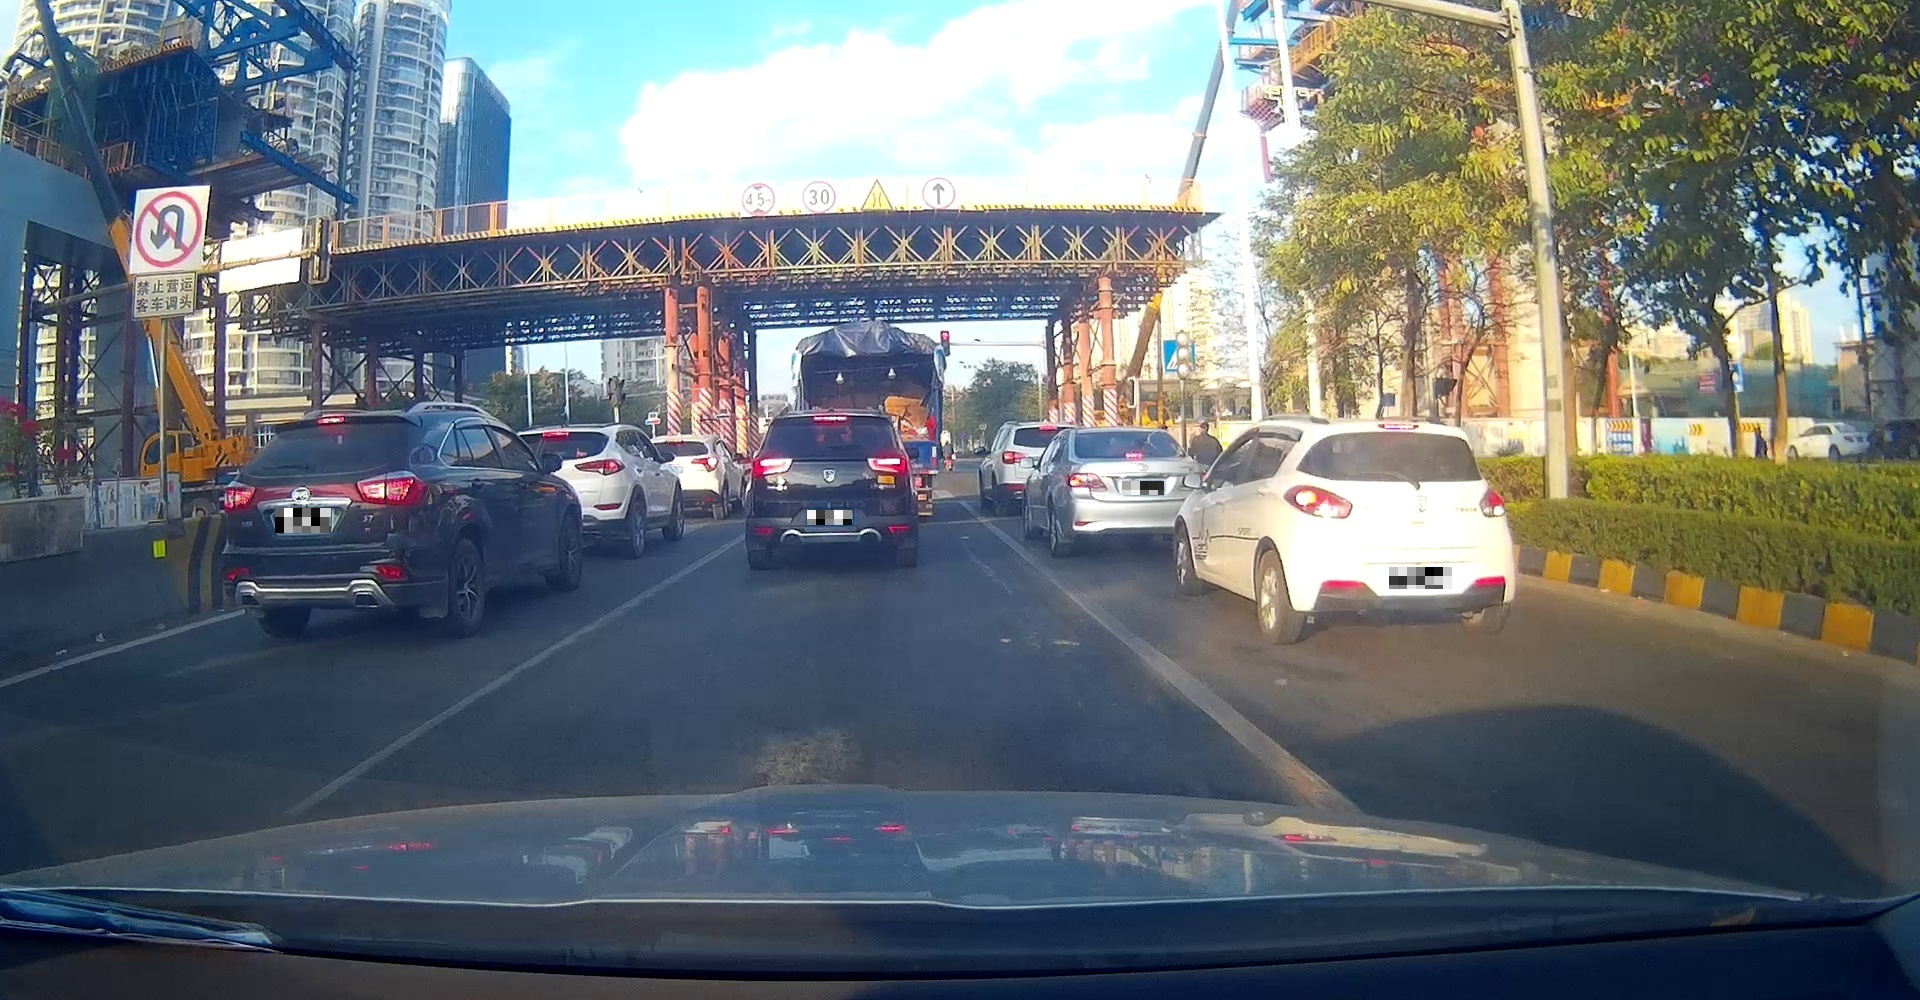L_light: (1283, 484, 1354, 519), (222, 478, 257, 511), (750, 456, 792, 476)
R_light: (356, 470, 427, 505), (1477, 486, 1507, 518), (866, 456, 908, 475)
T_light: (1380, 423, 1418, 431), (811, 416, 846, 423), (317, 418, 345, 425)
day-brake: (1276, 418, 1517, 643), (216, 410, 434, 637), (745, 407, 919, 567)
plate_1: (276, 508, 331, 533)
plate_2: (808, 510, 852, 525)
plate_3: (1123, 481, 1164, 495)
plate_4: (1389, 567, 1451, 589)
